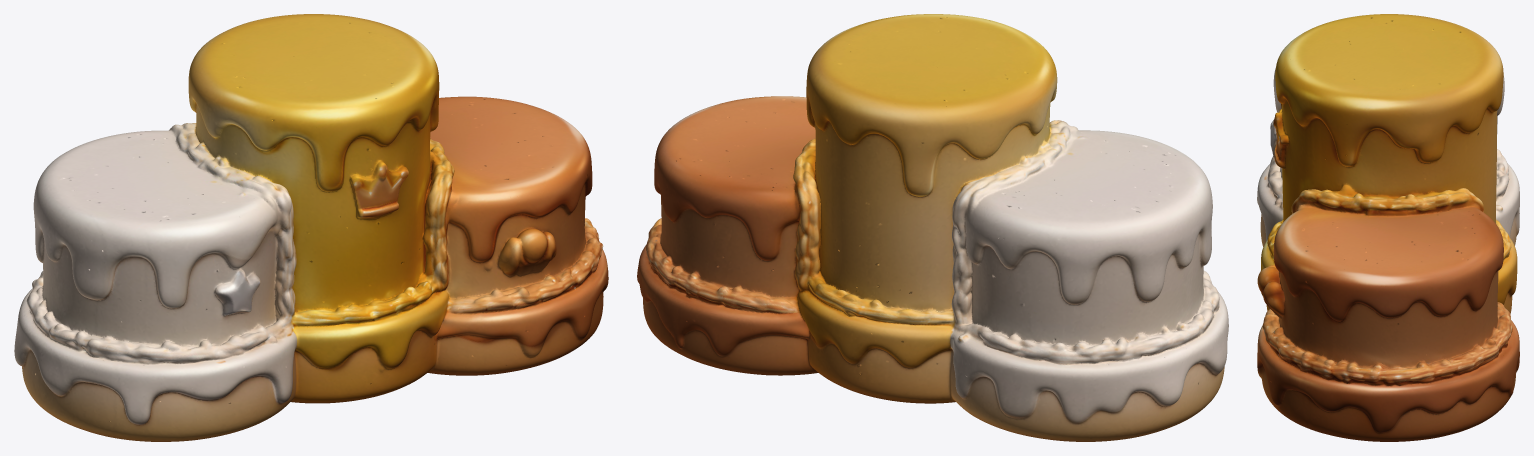
Rendered from arcade-podium-tiered-cake.glb.
3 views of the same model, side by side, from view 1: azimuth 30°, elevation 25°; view 2: azimuth 150°, elevation 25°; view 3: azimuth 270°, elevation 25° (orthographic). The views are drawn at different scales.
Visible parts, largest first — view 1: tripo_node_96738b8f-78e4-435e-8ce2-a8fd9a470c5f; view 2: tripo_node_96738b8f-78e4-435e-8ce2-a8fd9a470c5f; view 3: tripo_node_96738b8f-78e4-435e-8ce2-a8fd9a470c5f.
Boxes of the visible parts, x1=… form: tripo_node_96738b8f-78e4-435e-8ce2-a8fd9a470c5f: x1=14, y1=14, x2=608, y2=441; tripo_node_96738b8f-78e4-435e-8ce2-a8fd9a470c5f: x1=637, y1=14, x2=1228, y2=441; tripo_node_96738b8f-78e4-435e-8ce2-a8fd9a470c5f: x1=1257, y1=14, x2=1519, y2=441.
Size of the model in its own units: 1 by 0.5349 by 0.4532.
1 material, 1 textured.
